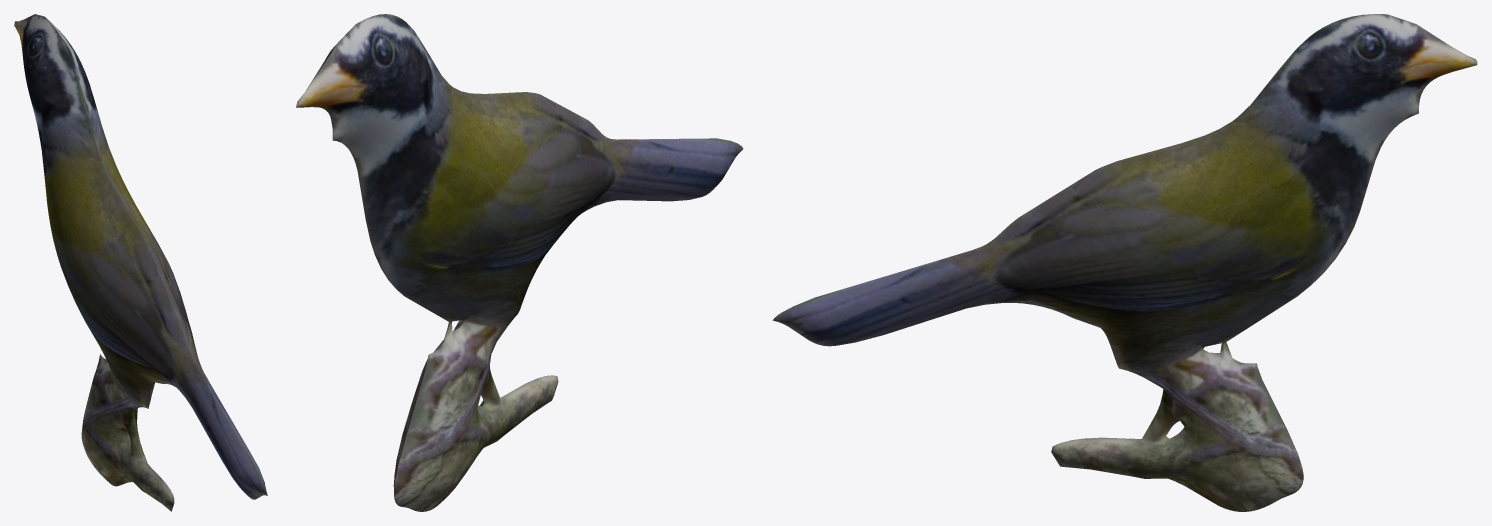
The picture shows the model from 3 angles, left to right: view 1: azimuth 30°, elevation 25°; view 2: azimuth 150°, elevation 25°; view 3: azimuth 270°, elevation 25°; orthographic projection. The views are drawn at different scales.
Visible parts, largest first — view 1: node1; view 2: node1; view 3: node1.
Boxes of the visible parts, <box> form: node1: <box>14,14,267,511</box>; node1: <box>296,14,743,511</box>; node1: <box>772,14,1477,511</box>.
Bounding box in the file's own units: 0.1903 × 0.9282 × 1.2.
Materials: 1 (1 with a texture image).
